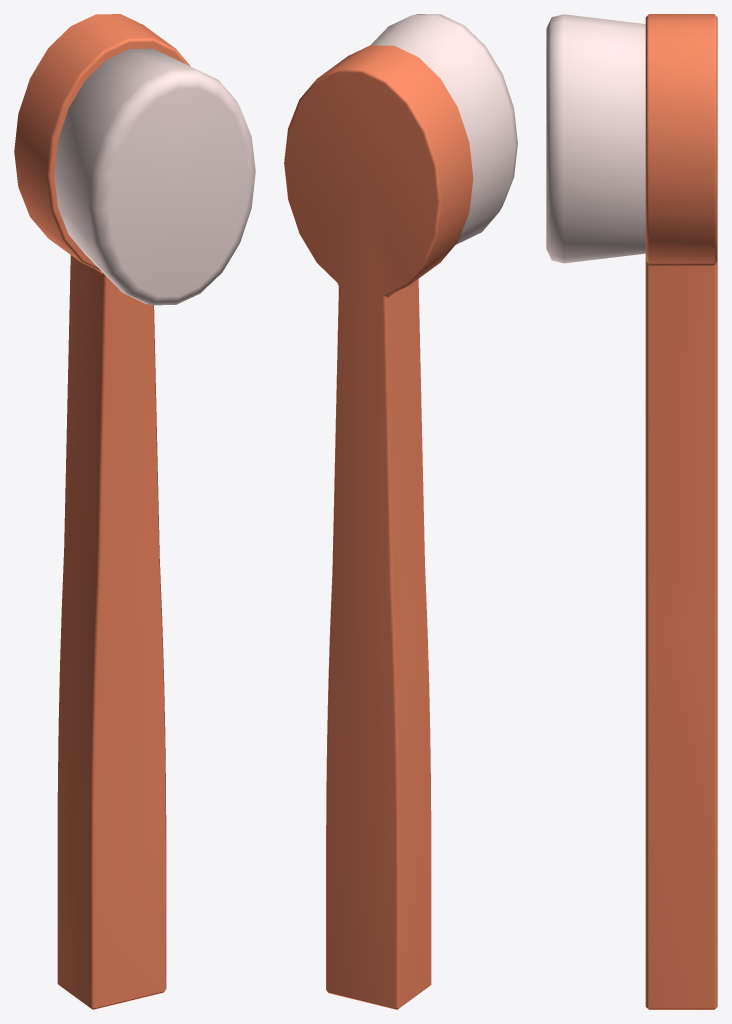
File: Public_20_Toothbrush_2.glb
3 renders of one model, left to right at view 1: azimuth 30°, elevation 25°; view 2: azimuth 150°, elevation 25°; view 3: azimuth 270°, elevation 25°, orthographic. The views are drawn at different scales.
Visible parts, largest first — view 1: Public_20_Toothbrush_2; view 2: Public_20_Toothbrush_2; view 3: Public_20_Toothbrush_2.
Boxes of the visible parts, bbox=[...] form: Public_20_Toothbrush_2: bbox=[14, 14, 255, 1009]; Public_20_Toothbrush_2: bbox=[284, 14, 517, 1009]; Public_20_Toothbrush_2: bbox=[546, 14, 717, 1009].
Size of the model in its own units: 0.5795 by 3.25 by 0.5196.
1 material, 1 textured.
